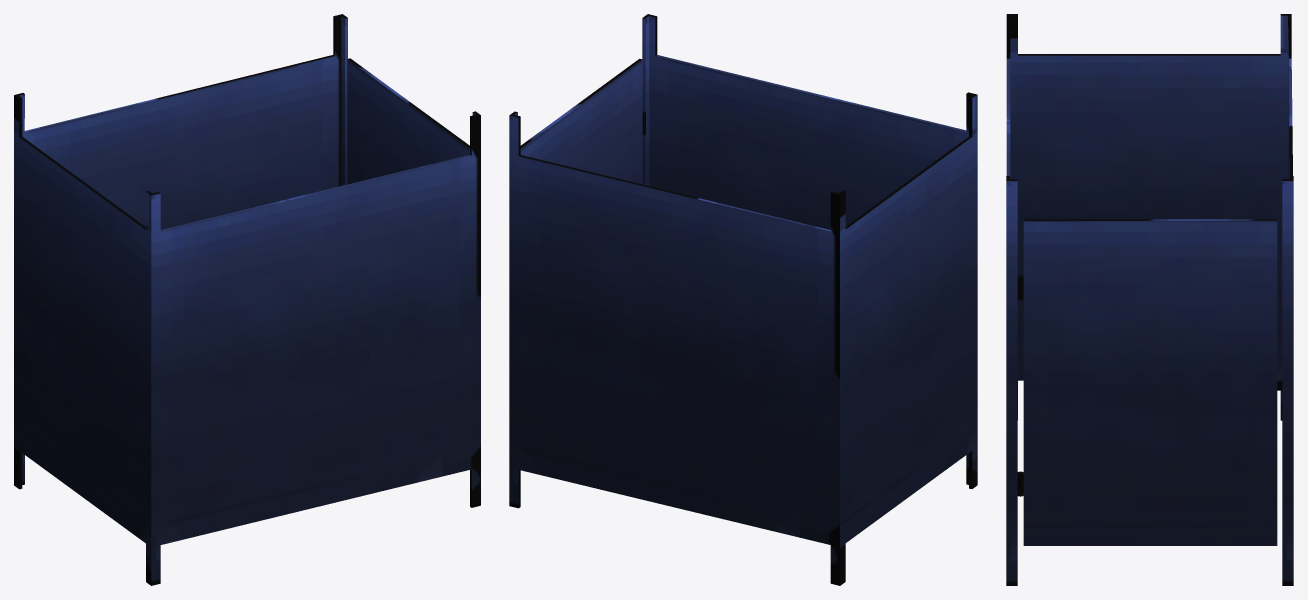
File: stall_closed.fbx
3 views of the same model, side by side, from view 1: azimuth 30°, elevation 25°; view 2: azimuth 150°, elevation 25°; view 3: azimuth 270°, elevation 25° (orthographic). The views are drawn at different scales.
Parts seen in each view (by area): view 1: stall_closed; view 2: stall_closed; view 3: stall_closed.
Part boxes in pixels (box(x1,y1,x2,y2)): stall_closed: box(14, 14, 480, 585); stall_closed: box(509, 14, 977, 585); stall_closed: box(1006, 14, 1293, 585).
Size of the model in its own units: 2.13 by 2.4 by 1.54.
Materials: 1 (1 with a texture image).
